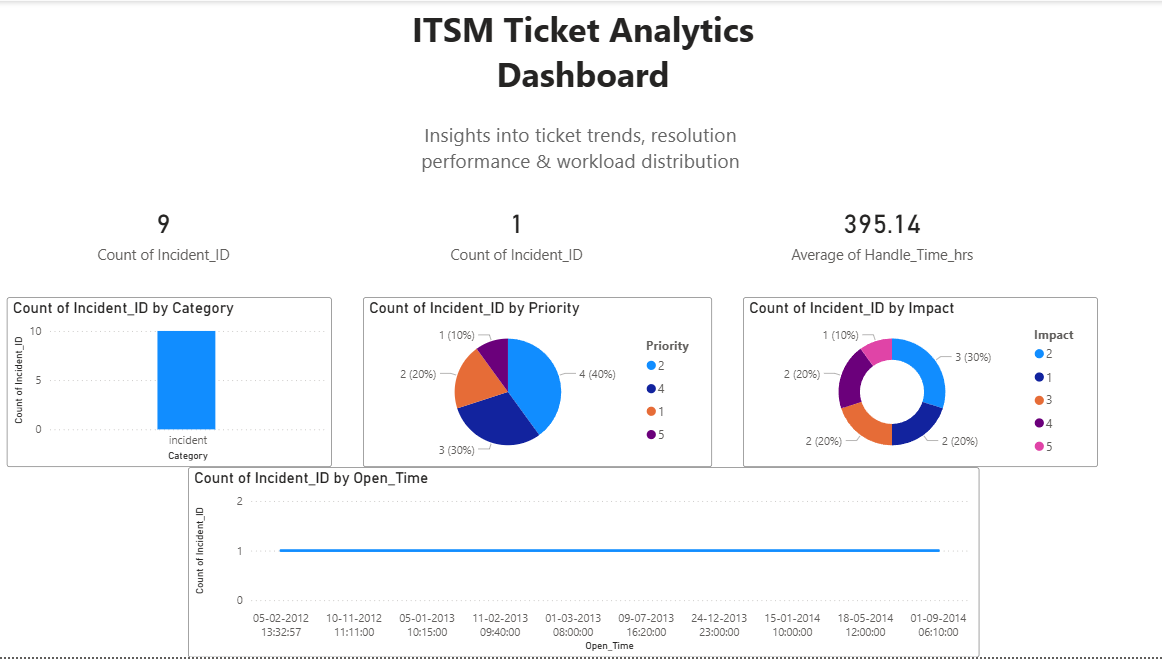

The page's visual inventory and layout, read from the dashboard file:
{"tool":"powerbi","page":{"name":"Page 1","canvas":[1280,720],"ordinal":0},"visuals":[{"type":"textbox","box":[10,0,280,280],"z":0},{"type":"textbox","box":[415.8,0,452.8,111.1],"z":1000},{"type":"textbox","box":[10,290,280,280],"z":2000},{"type":"textbox","box":[413,126.2,452.8,71.4],"z":3000},{"type":"card","fields":{"Values":["CountNonNull(itsm_sample_small.Incident_ID)"]},"box":[43.9,197.6,275.8,112.5],"z":4000},{"type":"card","fields":{"Values":["CountNonNull(itsm_sample_small.Incident_ID)"]},"box":[419.2,197.6,299.1,112.5],"z":5000},{"type":"card","fields":{"Values":["Avg(itsm_sample_small.Handle_Time_hrs)"]},"box":[817.8,197.6,306,112.5],"z":6000},{"type":"columnChart","fields":{"Category":["itsm_sample_small.Category"],"Y":["CountNonNull(itsm_sample_small.Incident_ID)"]},"box":[9.6,325.2,356.8,186.6],"z":7000},{"type":"donutChart","fields":{"Category":["itsm_sample_small.Impact"],"Y":["CountNonNull(itsm_sample_small.Incident_ID)"]},"box":[817.8,325.2,389.7,186.6],"z":8000},{"type":"pieChart","fields":{"Category":["itsm_sample_small.Priority"],"Y":["CountNonNull(itsm_sample_small.Incident_ID)"]},"box":[400.7,325.2,382.8,186.6],"z":9000},{"type":"lineChart","fields":{"Y":["CountNonNull(itsm_sample_small.Incident_ID)"],"Category":["itsm_sample_small.Open_Time"]},"box":[208.6,511.8,868.6,208.6],"z":10000}]}

Visuals, with their boxes in screenshot pixels (x1, y1, x2, y2), scaled from the page's 1280x720 canvas onto the 1162x661 screenshot:
textbox: x1=9 y1=0 x2=263 y2=257
textbox: x1=377 y1=0 x2=789 y2=102
textbox: x1=9 y1=266 x2=263 y2=523
textbox: x1=375 y1=116 x2=786 y2=181
card - CountNonNull(itsm_sample_small.Incident_ID): x1=40 y1=181 x2=290 y2=285
card - CountNonNull(itsm_sample_small.Incident_ID): x1=381 y1=181 x2=652 y2=285
card - Avg(itsm_sample_small.Handle_Time_hrs): x1=742 y1=181 x2=1020 y2=285
columnChart - itsm_sample_small.Category x CountNonNull(itsm_sample_small.Incident_ID): x1=9 y1=299 x2=333 y2=470
donutChart - itsm_sample_small.Impact x CountNonNull(itsm_sample_small.Incident_ID): x1=742 y1=299 x2=1096 y2=470
pieChart - itsm_sample_small.Priority x CountNonNull(itsm_sample_small.Incident_ID): x1=364 y1=299 x2=711 y2=470
lineChart - CountNonNull(itsm_sample_small.Incident_ID) x itsm_sample_small.Open_Time: x1=189 y1=470 x2=978 y2=660
